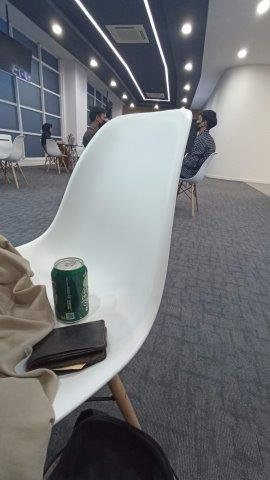kaleng: (51, 257, 88, 324)
